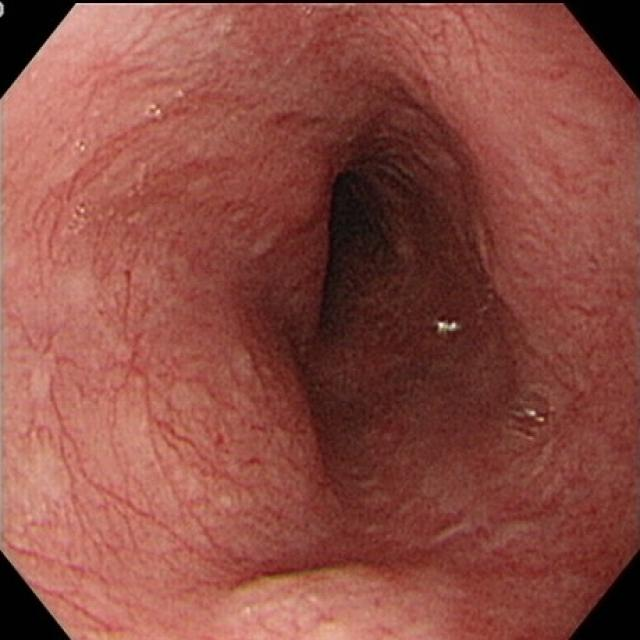A: (221, 555, 457, 636)
E: (321, 169, 413, 301)
T: (508, 384, 556, 443)
